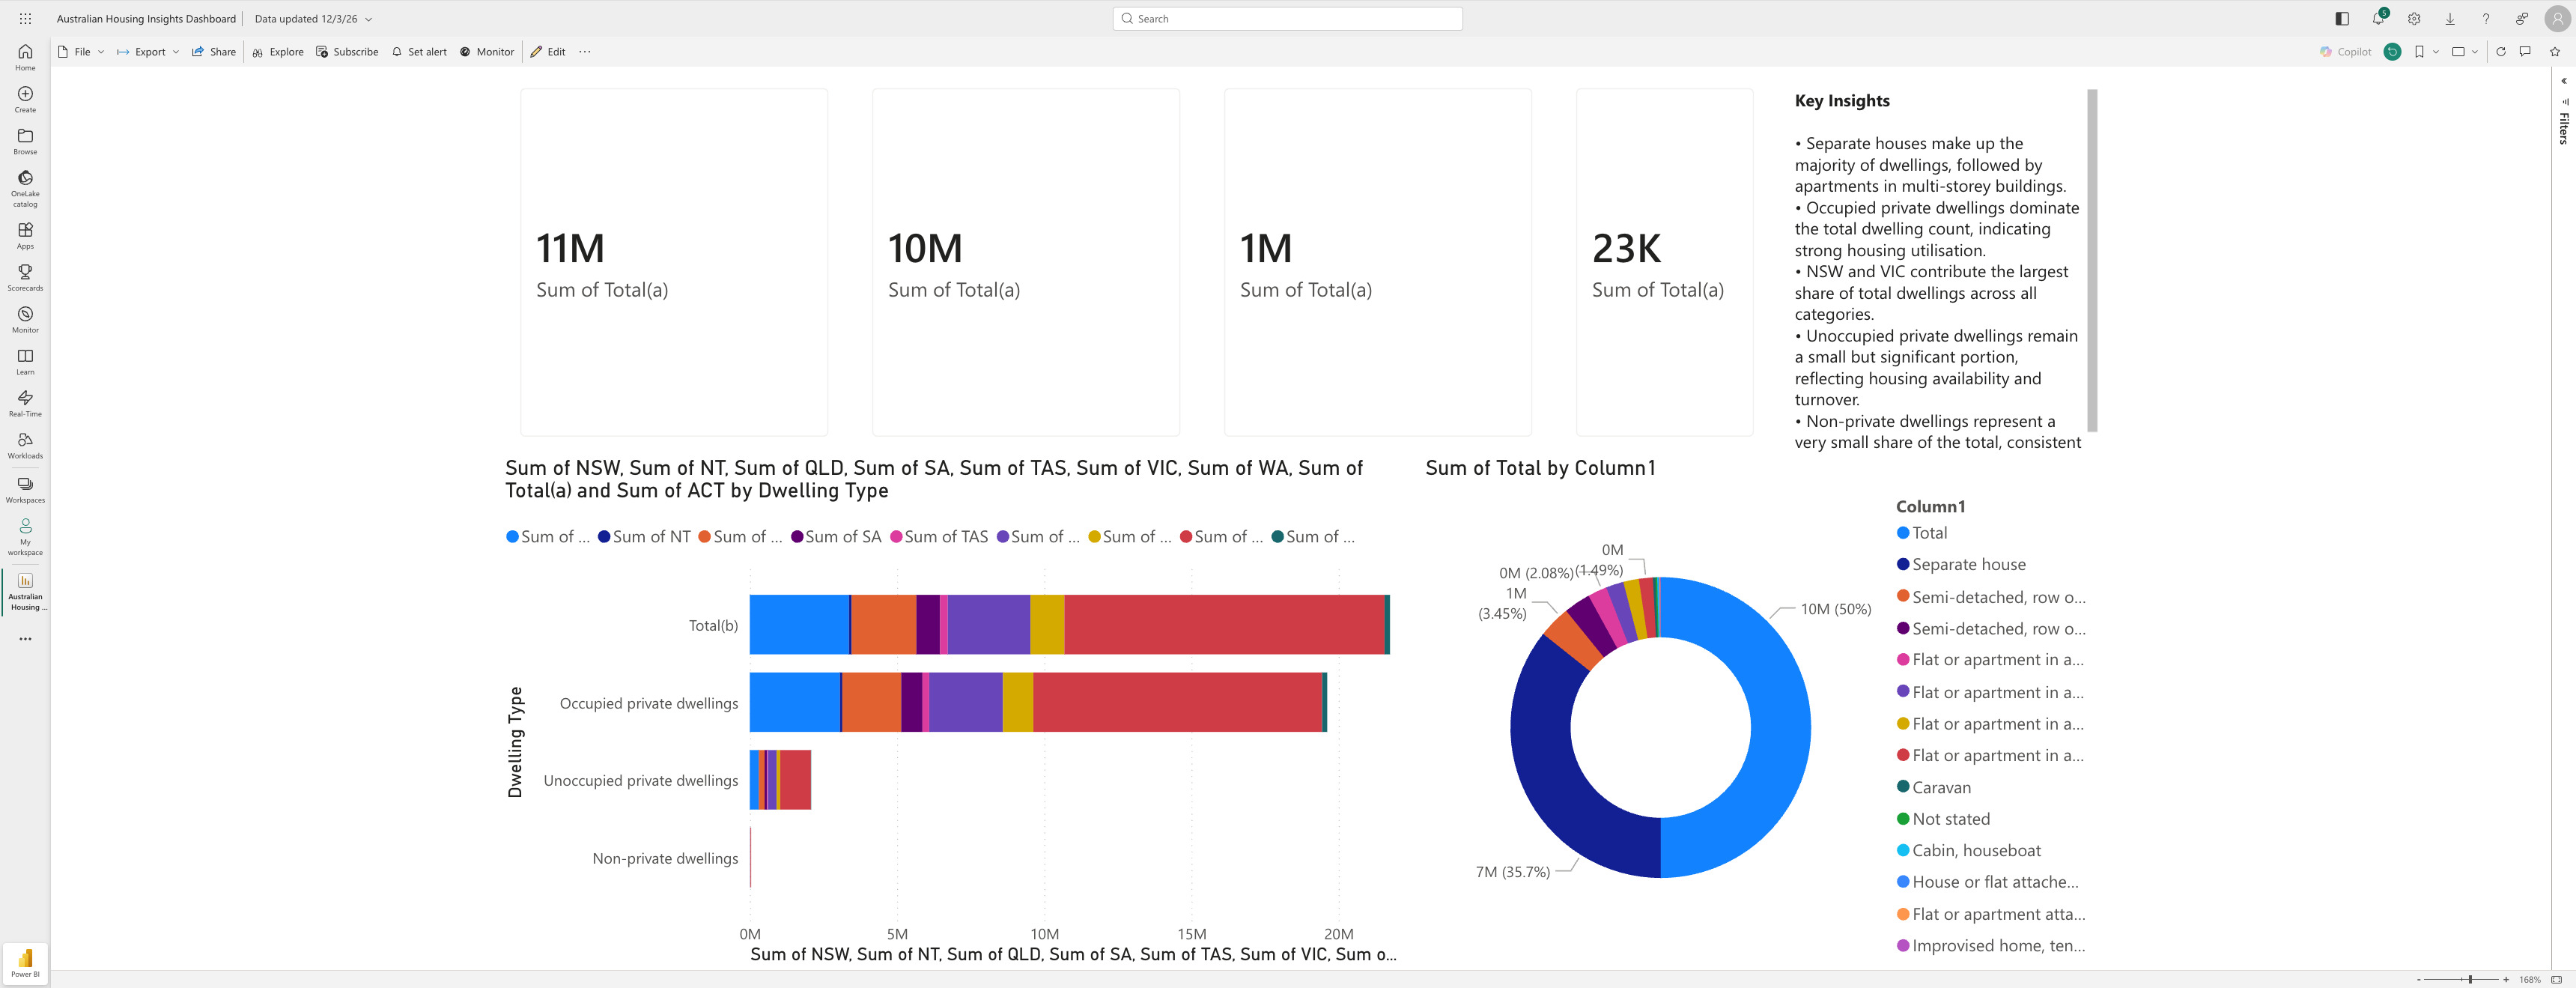

This screenshot's page, from the dashboard's own definition file:
{"tool":"powerbi","page":{"name":"Page 1","canvas":[1280,720],"ordinal":0},"visuals":[{"type":"cardVisual","fields":{"Data":["Sum(Table 1.Total(a))"]},"box":[0,0,280.5,312.1],"z":0},{"type":"cardVisual","fields":{"Data":["Sum(Table 1.Total(a))"]},"box":[280.5,0,280.5,312.1],"z":1000},{"type":"cardVisual","fields":{"Data":["Sum(Table 1.Total(a))"]},"box":[561.1,0,280.5,312.1],"z":2000},{"type":"cardVisual","fields":{"Data":["Sum(Table 1.Total(a))"]},"box":[841.6,0,176.1,312.1],"z":3000},{"type":"barChart","fields":{"Category":["Table 1.Dwelling Type"],"Y":["Sum(Table 1.NSW)","Sum(Table 1.NT)","Sum(Table 1.QLD)","Sum(Table 1.SA)","Sum(Table 1.TAS)","Sum(Table 1.VIC)","Sum(Table 1.WA)","Sum(Table 1.Total(a))","Sum(Table 1.ACT)"]},"box":[0,312.1,733.5,408.1],"z":4000},{"type":"donutChart","fields":{"Y":["Sum(Table 4.Total)"],"Category":["Table 4.Column1"]},"box":[733.5,312.1,546.5,408.1],"z":5000},{"type":"textbox","box":[1028.6,13.4,251.4,298.8],"z":5001}]}

Visuals, with their boxes on the page's 1280x720 design canvas (x1, y1, x2, y2). These are canvas units, not pixel positions in the 2576x988 screenshot, which may show the page scaled, cropped or inside an application window:
cardVisual - Sum(Table 1.Total(a)): locate(0, 0, 280, 312)
cardVisual - Sum(Table 1.Total(a)): locate(280, 0, 561, 312)
cardVisual - Sum(Table 1.Total(a)): locate(561, 0, 842, 312)
cardVisual - Sum(Table 1.Total(a)): locate(842, 0, 1018, 312)
barChart - Table 1.Dwelling Type x Sum(Table 1.NSW): locate(0, 312, 734, 720)
donutChart - Sum(Table 4.Total) x Table 4.Column1: locate(734, 312, 1280, 720)
textbox: locate(1029, 13, 1280, 312)
